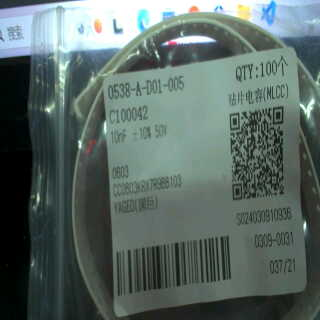10nF: (105, 126, 129, 148)
